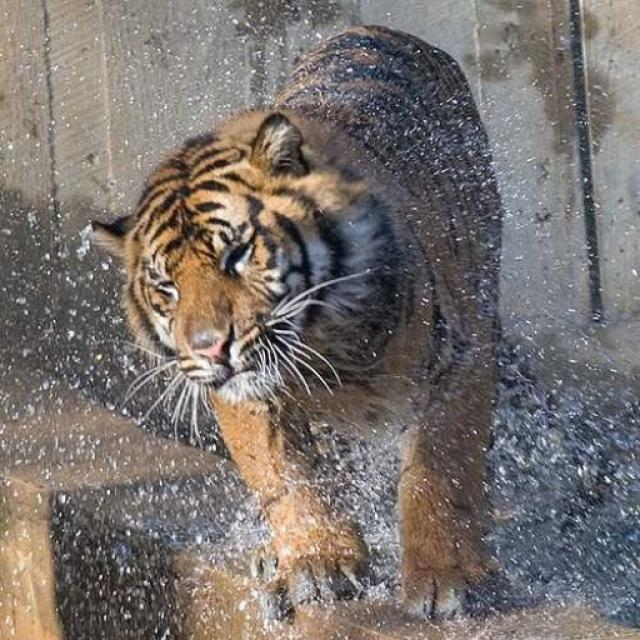tiger: (88, 22, 509, 623)
